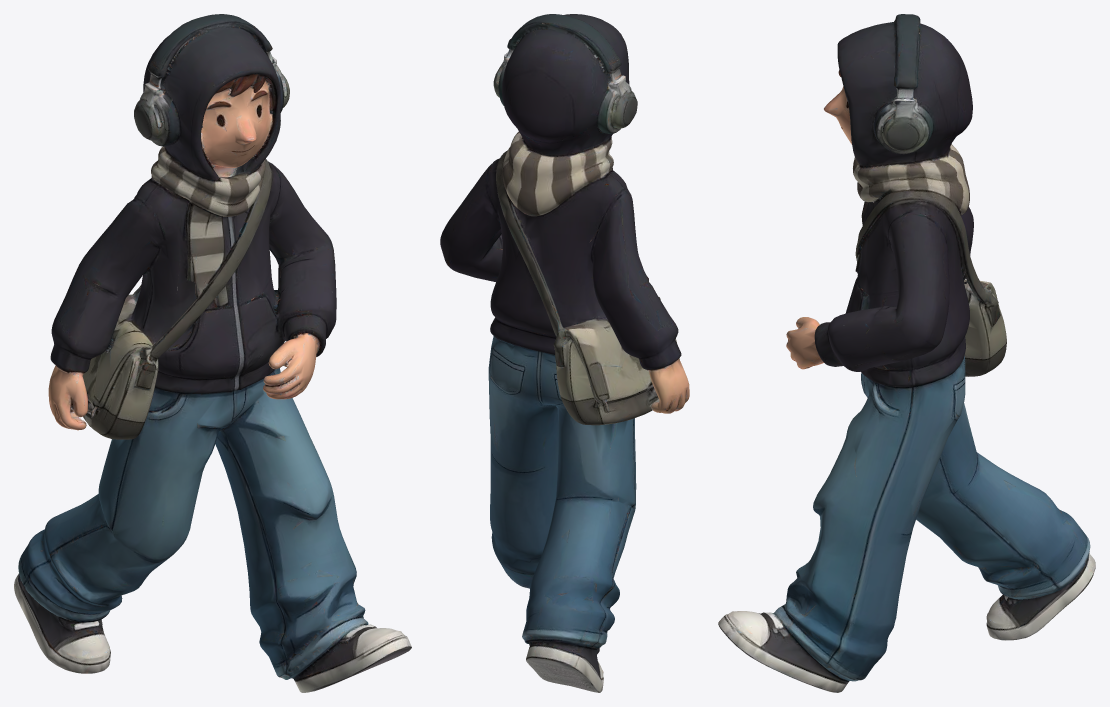
Rendered from getkong-ped3.glb.
3 renders of one model, left to right at view 1: azimuth 30°, elevation 25°; view 2: azimuth 150°, elevation 25°; view 3: azimuth 270°, elevation 25°, orthographic. The views are drawn at different scales.
Visible parts, largest first — view 1: Mesh_0; view 2: Mesh_0; view 3: Mesh_0.
Part boxes in pixels (bbox=[...]): Mesh_0: bbox=[14, 14, 411, 692]; Mesh_0: bbox=[440, 14, 689, 692]; Mesh_0: bbox=[718, 14, 1095, 692].
Size of the model in its own units: 0.7972 by 1.9 by 1.01.
Materials: 1 (1 with a texture image).
